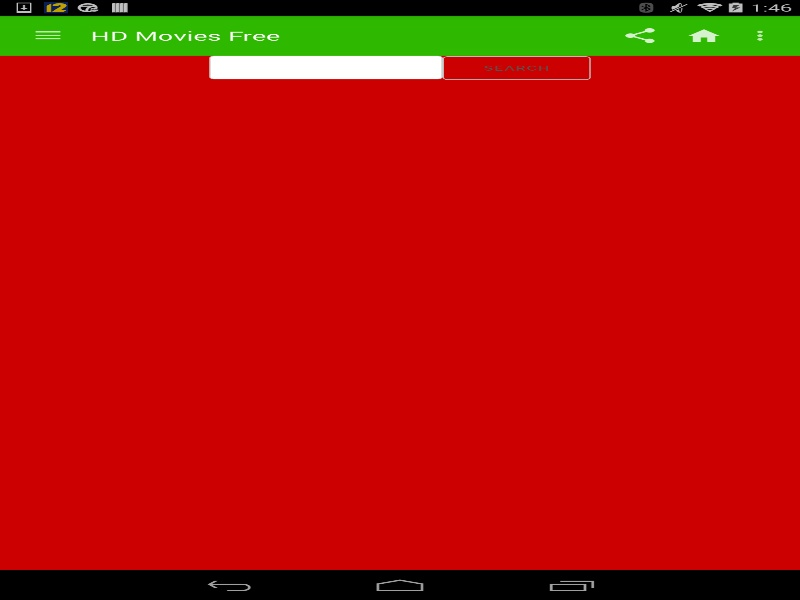Button: (442, 56, 592, 80), (10, 18, 85, 53)
Input: (209, 55, 444, 79)
